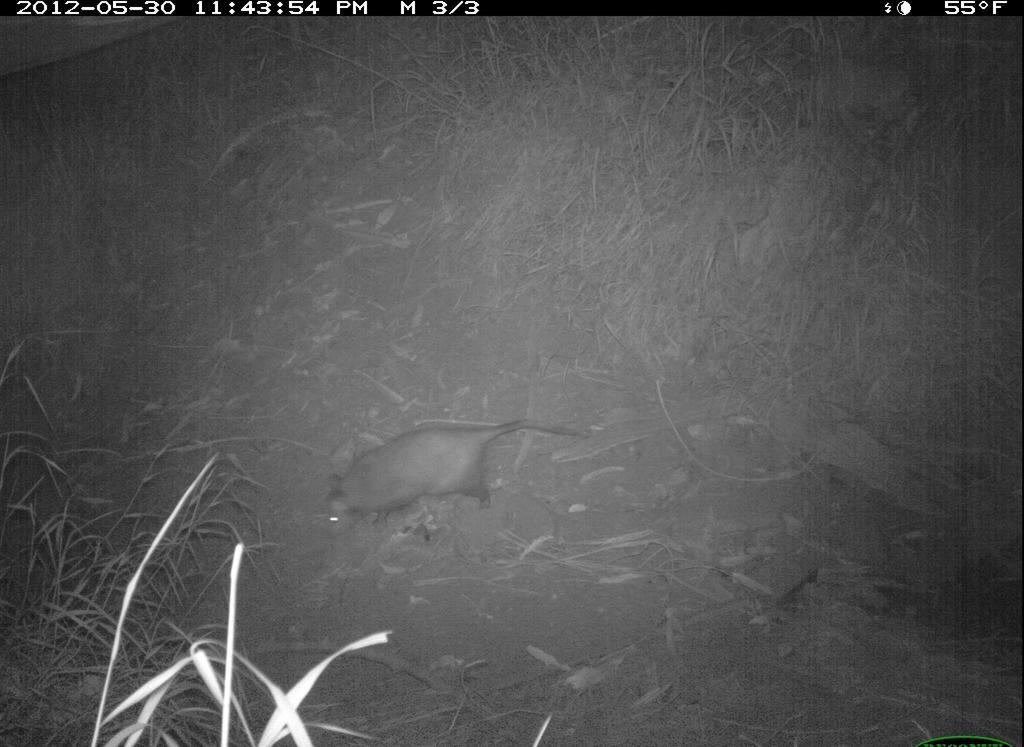opossum: (297, 405, 598, 543)
